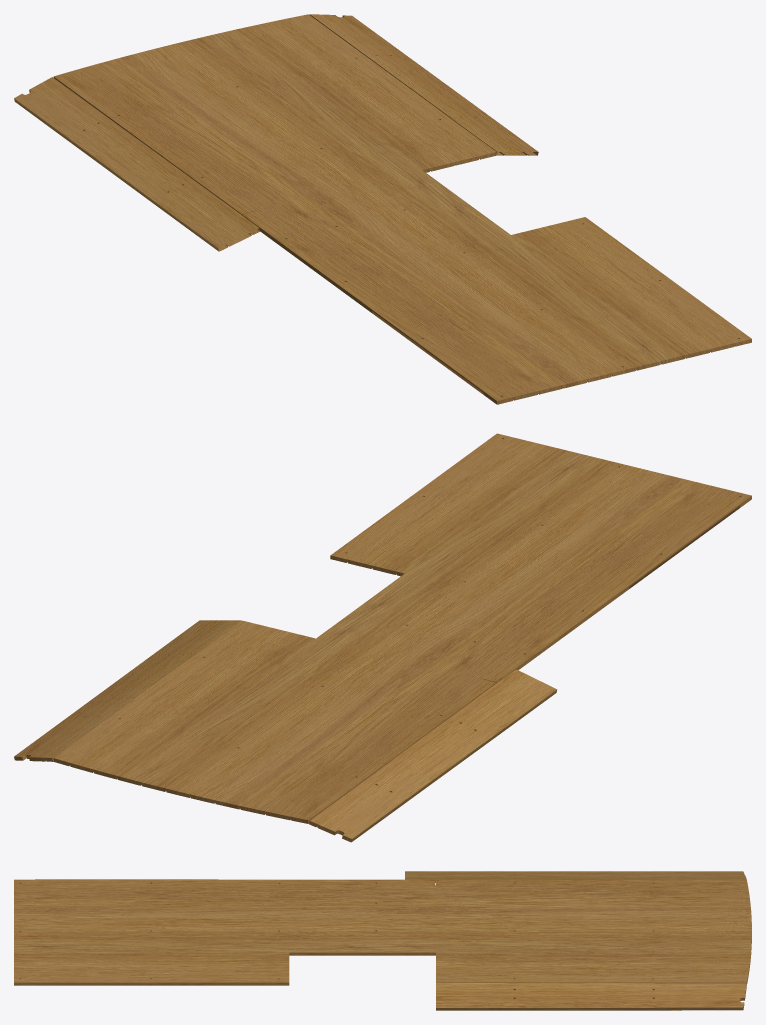
File: wall-and-ceiling-two.glb
The picture shows the model from 3 angles, top to bottom: view 1: azimuth 30°, elevation 25°; view 2: azimuth 150°, elevation 25°; view 3: azimuth 270°, elevation 25°; orthographic projection. The views are drawn at different scales.
Visible parts, largest first — view 1: EFI359; view 2: EFI359; view 3: EFI359.
Part boxes in pixels (x1=…): EFI359: x1=14, y1=14, x2=751, y2=404; EFI359: x1=14, y1=433, x2=751, y2=842; EFI359: x1=14, y1=871, x2=751, y2=1010.
Bounding box in the file's own units: 1.41 × 0.0554 × 3.22.
Materials: 1 (1 with a texture image).
